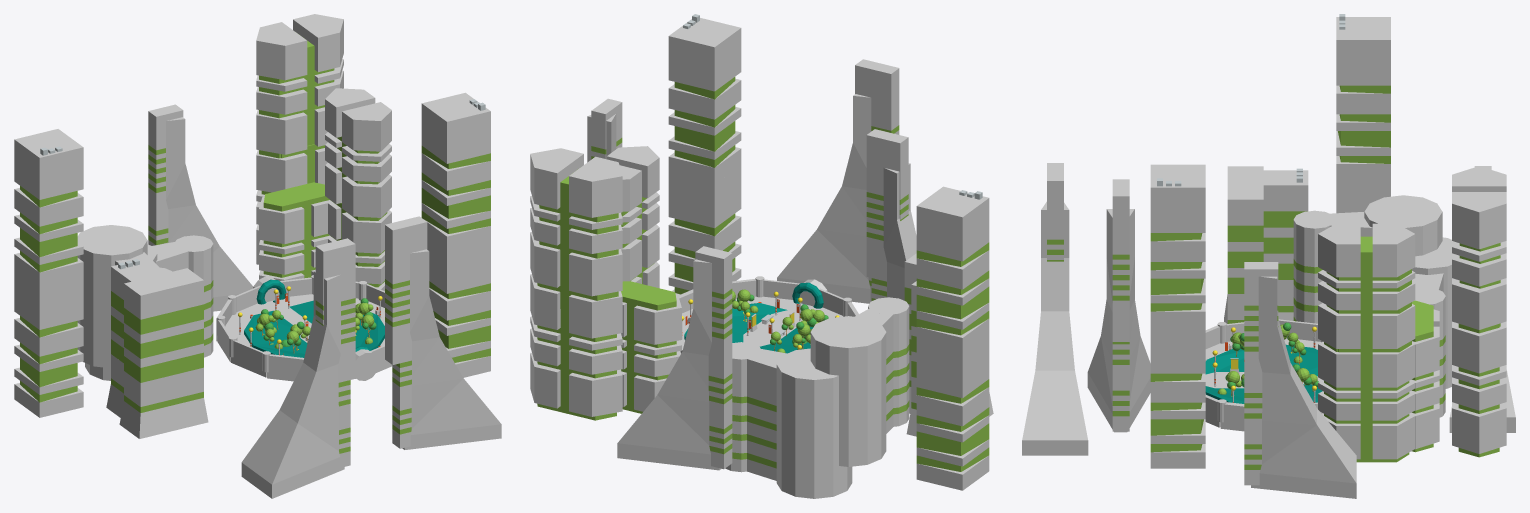
File: Urban Park v1.glb
3 views of the same model, side by side, from view 1: azimuth 30°, elevation 25°; view 2: azimuth 150°, elevation 25°; view 3: azimuth 270°, elevation 25° (orthographic). The views are drawn at different scales.
Visible parts, largest first — view 1: group455369100, group758940093, group246221976, group203304829, group576531375, group1219000781, group1699150959, group1354328709, group330781203, group1872301862, group1881962715, group887585770 (+2 smaller); view 2: group1699150959, group455369100, group758940093, group1881962715, group1354328709, group330781203, group246221976, group1219000781, group203304829, group1872301862, group1494337977, group576531375 (+2 smaller); view 3: group246221976, group758940093, group1699150959, group1494337977, group1219000781, group455369100, group203304829, group576531375, group330781203, group1881962715, group1872301862, group887585770.
Boxes of the visible parts, box(x1,y1,x2,y2) form: group455369100: box(14, 129, 83, 417); group758940093: box(421, 92, 490, 377); group246221976: box(259, 88, 391, 290); group203304829: box(241, 238, 355, 498); group576531375: box(106, 259, 208, 438); group1219000781: box(385, 216, 501, 449); group1699150959: box(256, 14, 343, 264); group1354328709: box(148, 104, 252, 311); group330781203: box(77, 225, 171, 368); group1872301862: box(216, 277, 392, 381); group1881962715: box(85, 235, 213, 380); group887585770: box(244, 300, 384, 357); group1699150959: box(530, 148, 622, 420); group455369100: box(916, 186, 989, 490); group758940093: box(668, 14, 741, 295); group1881962715: box(725, 342, 852, 498); group1354328709: box(617, 246, 732, 470); group330781203: box(810, 297, 909, 466); group246221976: box(606, 146, 681, 413); group1219000781: box(777, 59, 899, 303); group203304829: box(866, 129, 916, 300); group1872301862: box(678, 279, 858, 353); group1494337977: box(587, 98, 622, 162); group576531375: box(904, 253, 993, 436); group246221976: box(1318, 223, 1439, 462); group758940093: box(1150, 164, 1205, 468); group1699150959: box(1452, 166, 1506, 457); group1494337977: box(1244, 262, 1356, 498); group1219000781: box(1022, 163, 1088, 455); group455369100: box(1336, 14, 1390, 213); group203304829: box(1087, 179, 1150, 432); group576531375: box(1224, 166, 1308, 323); group330781203: box(1293, 195, 1442, 323); group1881962715: box(1412, 237, 1451, 417); group1872301862: box(1205, 319, 1322, 431); group887585770: box(1205, 344, 1322, 403).
Size of the model in its own units: 1.74 by 1.22 by 1.62.
